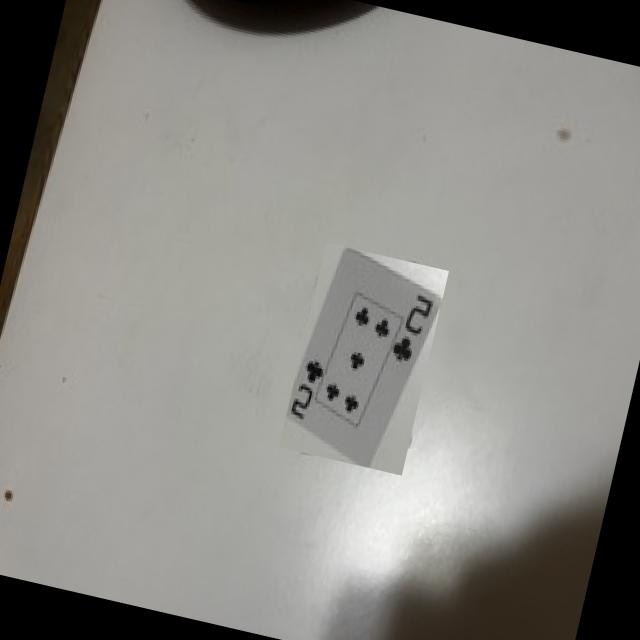5 of clubs: (287, 248, 441, 466)
